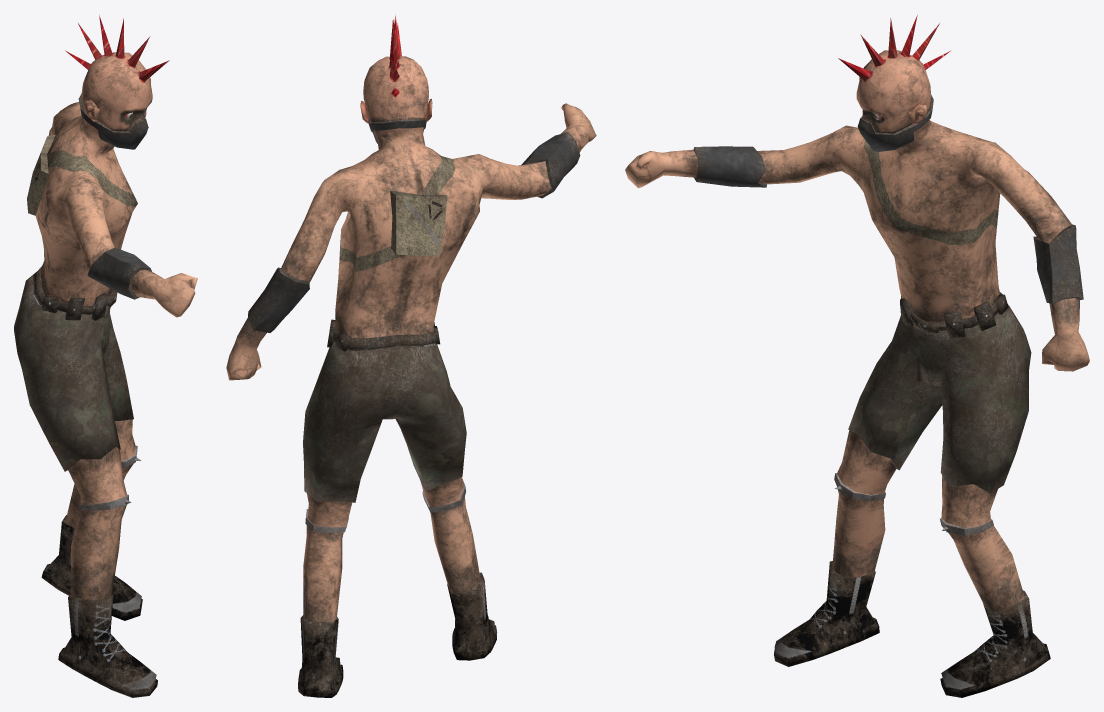
Rendered from Anim_disparar_pistola_npc2.0024.obj.
3 views of the same model, side by side, from view 1: azimuth 30°, elevation 25°; view 2: azimuth 150°, elevation 25°; view 3: azimuth 270°, elevation 25° (orthographic). The views are drawn at different scales.
Visible parts, largest first — view 1: polySurface1; view 2: polySurface1; view 3: polySurface1.
Part boxes in pixels (x1,y1,x2,y2): polySurface1: [14, 14, 197, 697]; polySurface1: [226, 14, 596, 697]; polySurface1: [625, 15, 1089, 697].
Size of the model in its own units: 2.79 by 9.99 by 6.39.
